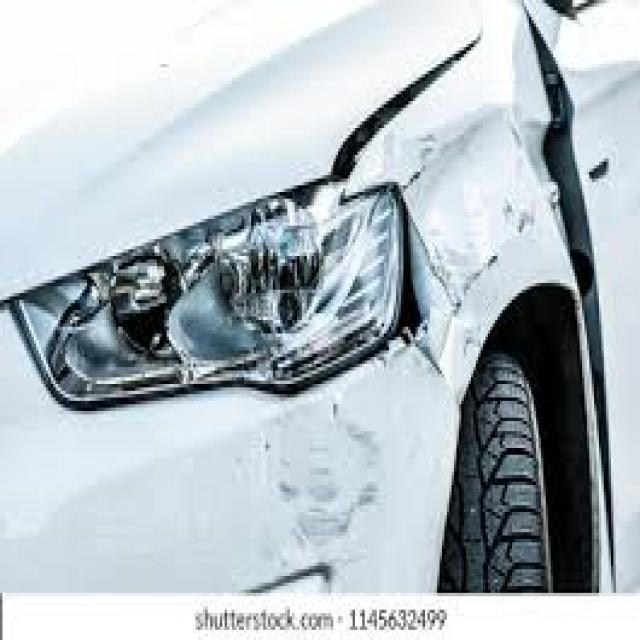dent-or-scratch: (240, 398, 386, 589)
